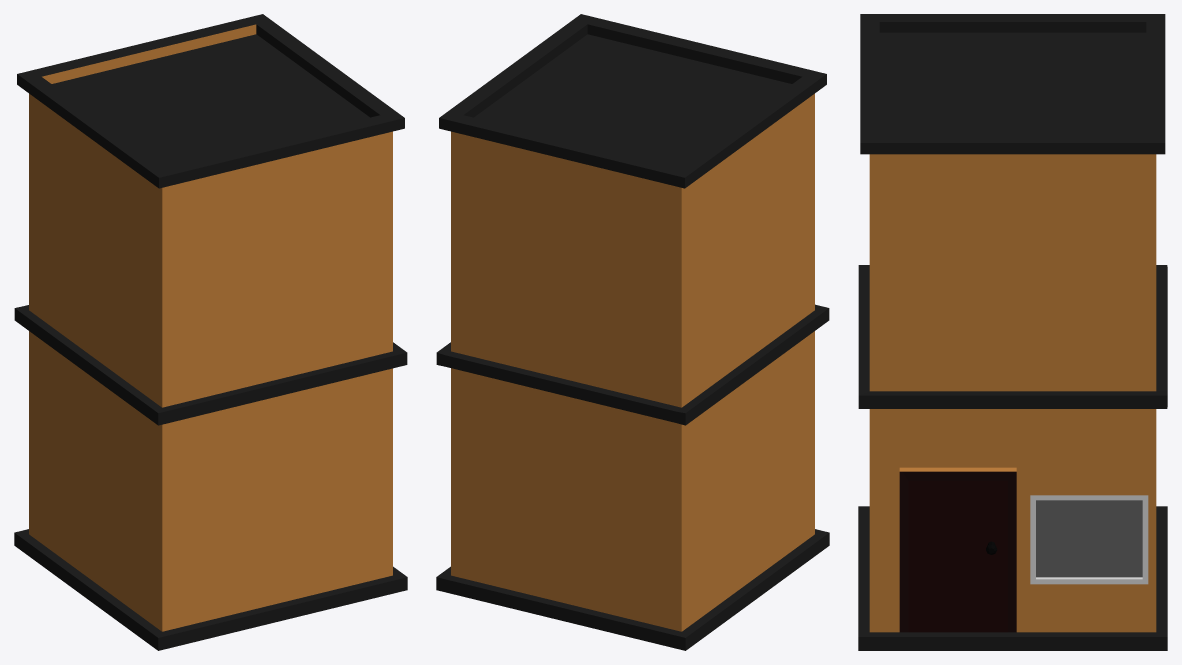
The model's file is Building.fbx.
The picture shows the model from 3 angles, left to right: view 1: azimuth 30°, elevation 25°; view 2: azimuth 150°, elevation 25°; view 3: azimuth 270°, elevation 25°; orthographic projection. The views are drawn at different scales.
Parts seen in each view (by area): view 1: Cube; view 2: Cube; view 3: Cube, Plane.
Part boxes in pixels (x1=…): Cube: x1=14, y1=14, x2=407, y2=650; Cube: x1=436, y1=14, x2=829, y2=650; Cube: x1=858, y1=14, x2=1167, y2=650; Plane: x1=1030, y1=495, x2=1148, y2=584.
Bounding box in the file's own units: 2.16 × 3.91 × 2.16.
